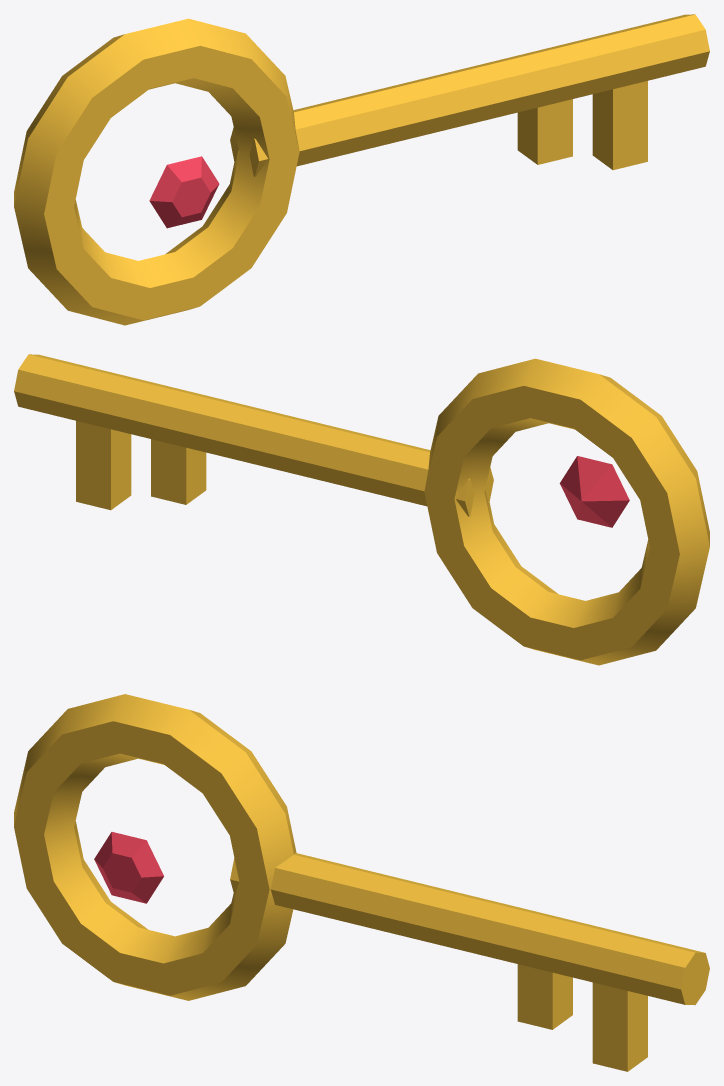
The model's file is Key.fbx.
The picture shows the model from 3 angles, top to bottom: view 1: azimuth 30°, elevation 25°; view 2: azimuth 150°, elevation 25°; view 3: azimuth 330°, elevation 25°; orthographic projection.
Visible parts, largest first — view 1: Key.001; view 2: Key.001; view 3: Key.001.
Part boxes in pixels (x1,y1,x2,y2): Key.001: (14,14,709,325); Key.001: (14,354,709,665); Key.001: (14,694,709,1071).
Size of the model in its own units: 2.72 by 1.11 by 0.3439.
Materials: 1 (1 with a texture image).
